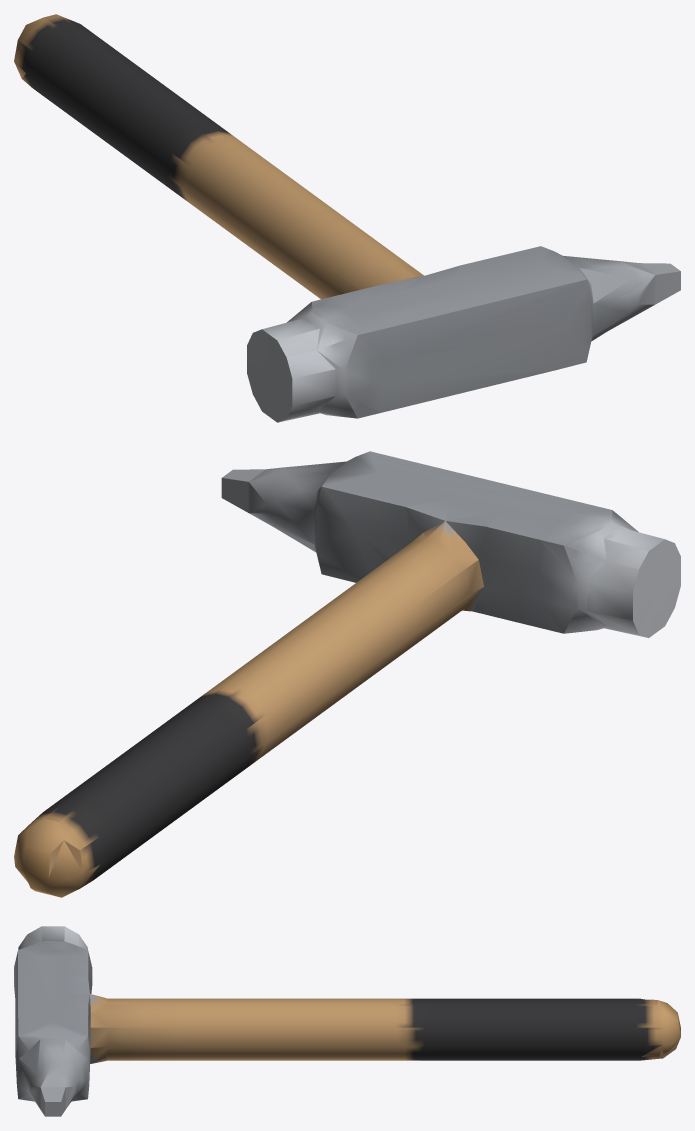
The model's file is hammer_edits.far.glb.
3 views of the same model, one above another, from view 1: azimuth 30°, elevation 25°; view 2: azimuth 150°, elevation 25°; view 3: azimuth 270°, elevation 25° (orthographic). The views are drawn at different scales.
Parts seen in each view (by area): view 1: hammer_edits; view 2: hammer_edits; view 3: hammer_edits.
Part boxes in pixels (x1=…): hammer_edits: x1=14, y1=14, x2=680, y2=422; hammer_edits: x1=14, y1=451, x2=680, y2=897; hammer_edits: x1=14, y1=926, x2=680, y2=1116.
Size of the model in its own units: 0.1615 by 0.0353 by 0.3007.
Materials: 1 (1 with a texture image).
